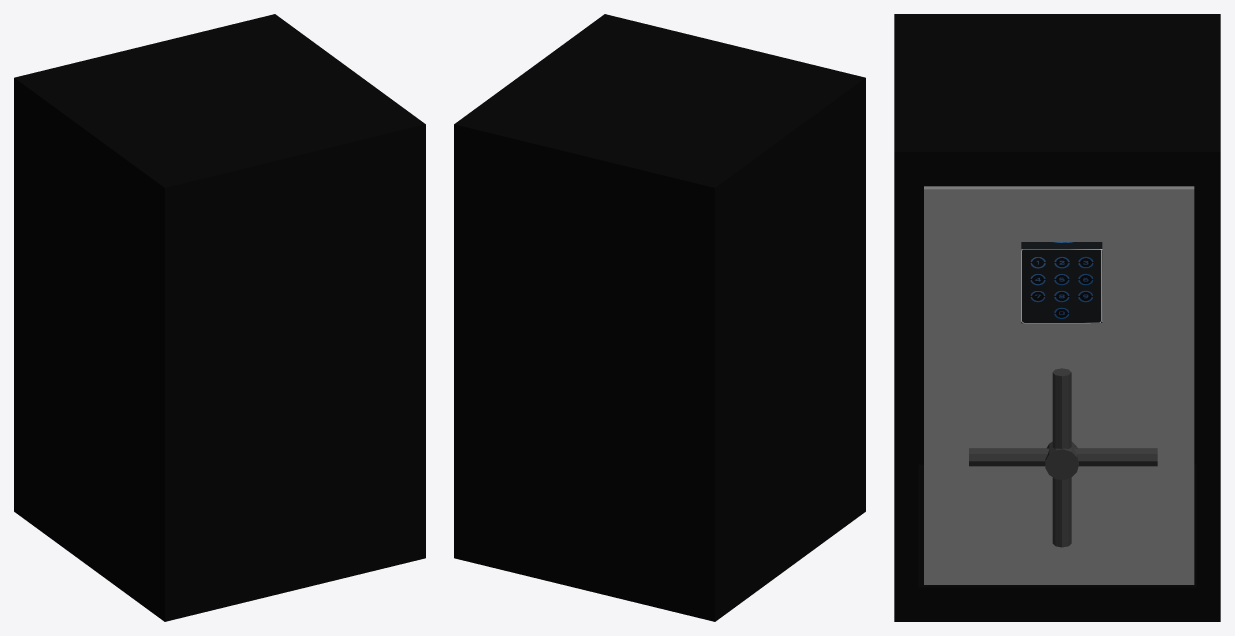
Rendered from Safe2.fbx.
3 views of the same model, side by side, from view 1: azimuth 30°, elevation 25°; view 2: azimuth 150°, elevation 25°; view 3: azimuth 270°, elevation 25° (orthographic). The views are drawn at different scales.
Parts seen in each view (by area): view 1: Cube; view 2: Cube; view 3: Cube.002, Cube, Cylinder.001.
Boxes of the visible parts, bbox=[...] form: Cube: bbox=[14, 14, 425, 621]; Cube: bbox=[454, 14, 865, 621]; Cube.002: bbox=[924, 186, 1194, 584]; Cube: bbox=[894, 14, 1220, 621]; Cylinder.001: bbox=[969, 368, 1157, 547].
Bounding box in the file's own units: 270 × 400 × 251.
Materials: 7 (1 with a texture image).
